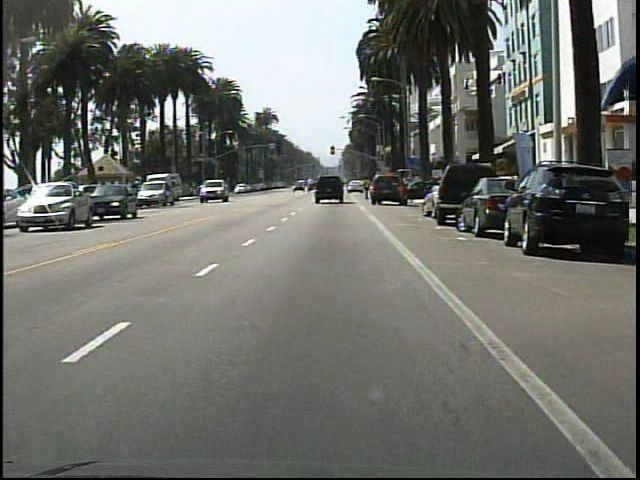person: (362, 174, 374, 203)
